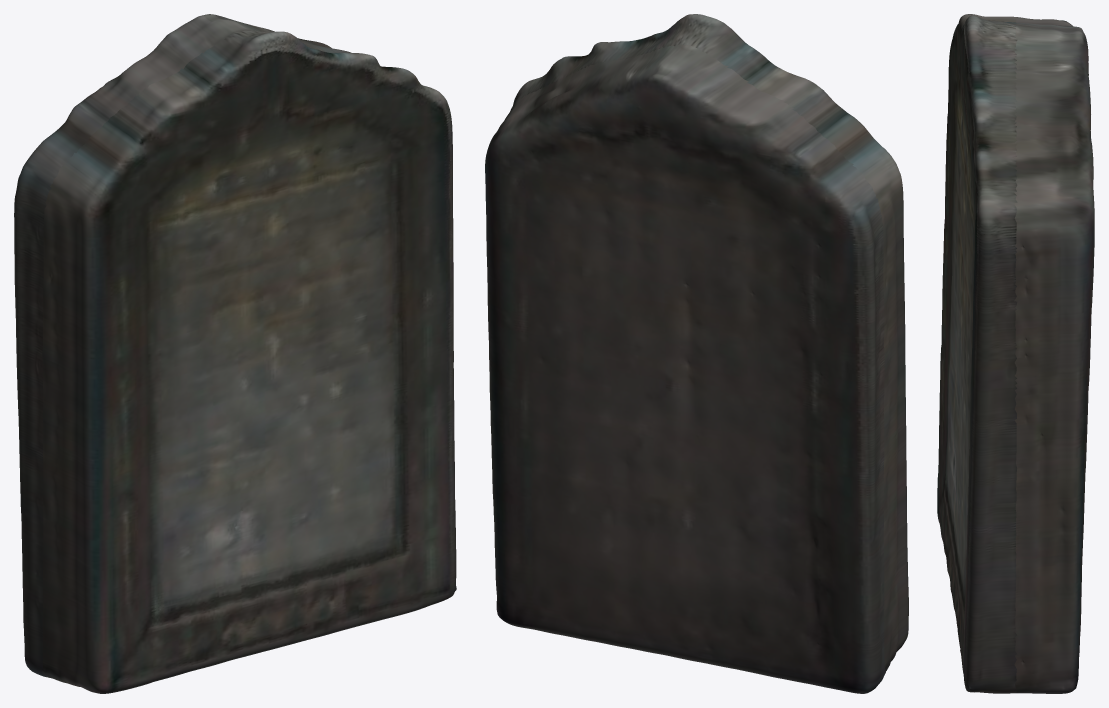
File: kfl-2189.glb
3 renders of one model, left to right at view 1: azimuth 30°, elevation 25°; view 2: azimuth 150°, elevation 25°; view 3: azimuth 270°, elevation 25°, orthographic. The views are drawn at different scales.
Visible parts, largest first — view 1: geometry_0; view 2: geometry_0; view 3: geometry_0.
Part boxes in pixels (x1,y1,x2,y2): geometry_0: (14, 14, 456, 693); geometry_0: (485, 14, 908, 693); geometry_0: (937, 14, 1094, 693).
Size of the model in its own units: 0.677 by 0.9978 by 0.2371.
Materials: 1 (1 with a texture image).
